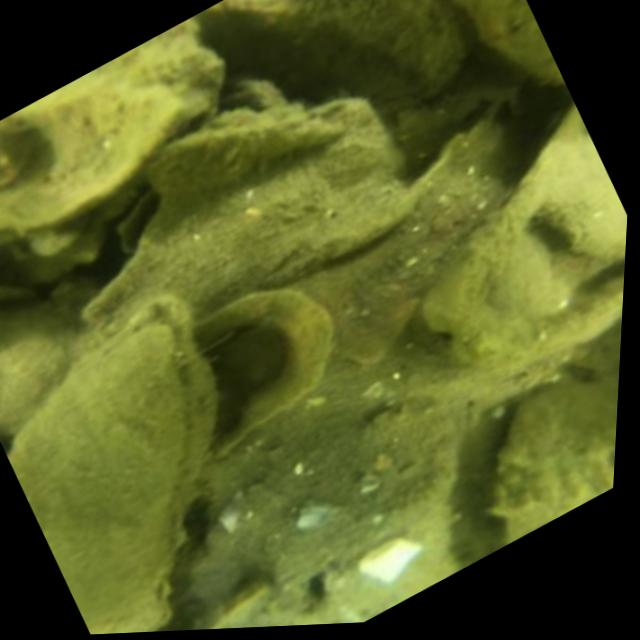Oyster-Closed: (10, 296, 217, 634)
Oyster-Indeterminate: (80, 99, 416, 337), (183, 385, 461, 628), (420, 96, 627, 370), (0, 19, 225, 222), (205, 0, 473, 112), (179, 287, 339, 467), (491, 380, 619, 534), (136, 111, 348, 200), (323, 502, 463, 622), (524, 107, 627, 261), (0, 303, 70, 434), (460, 0, 563, 82)
